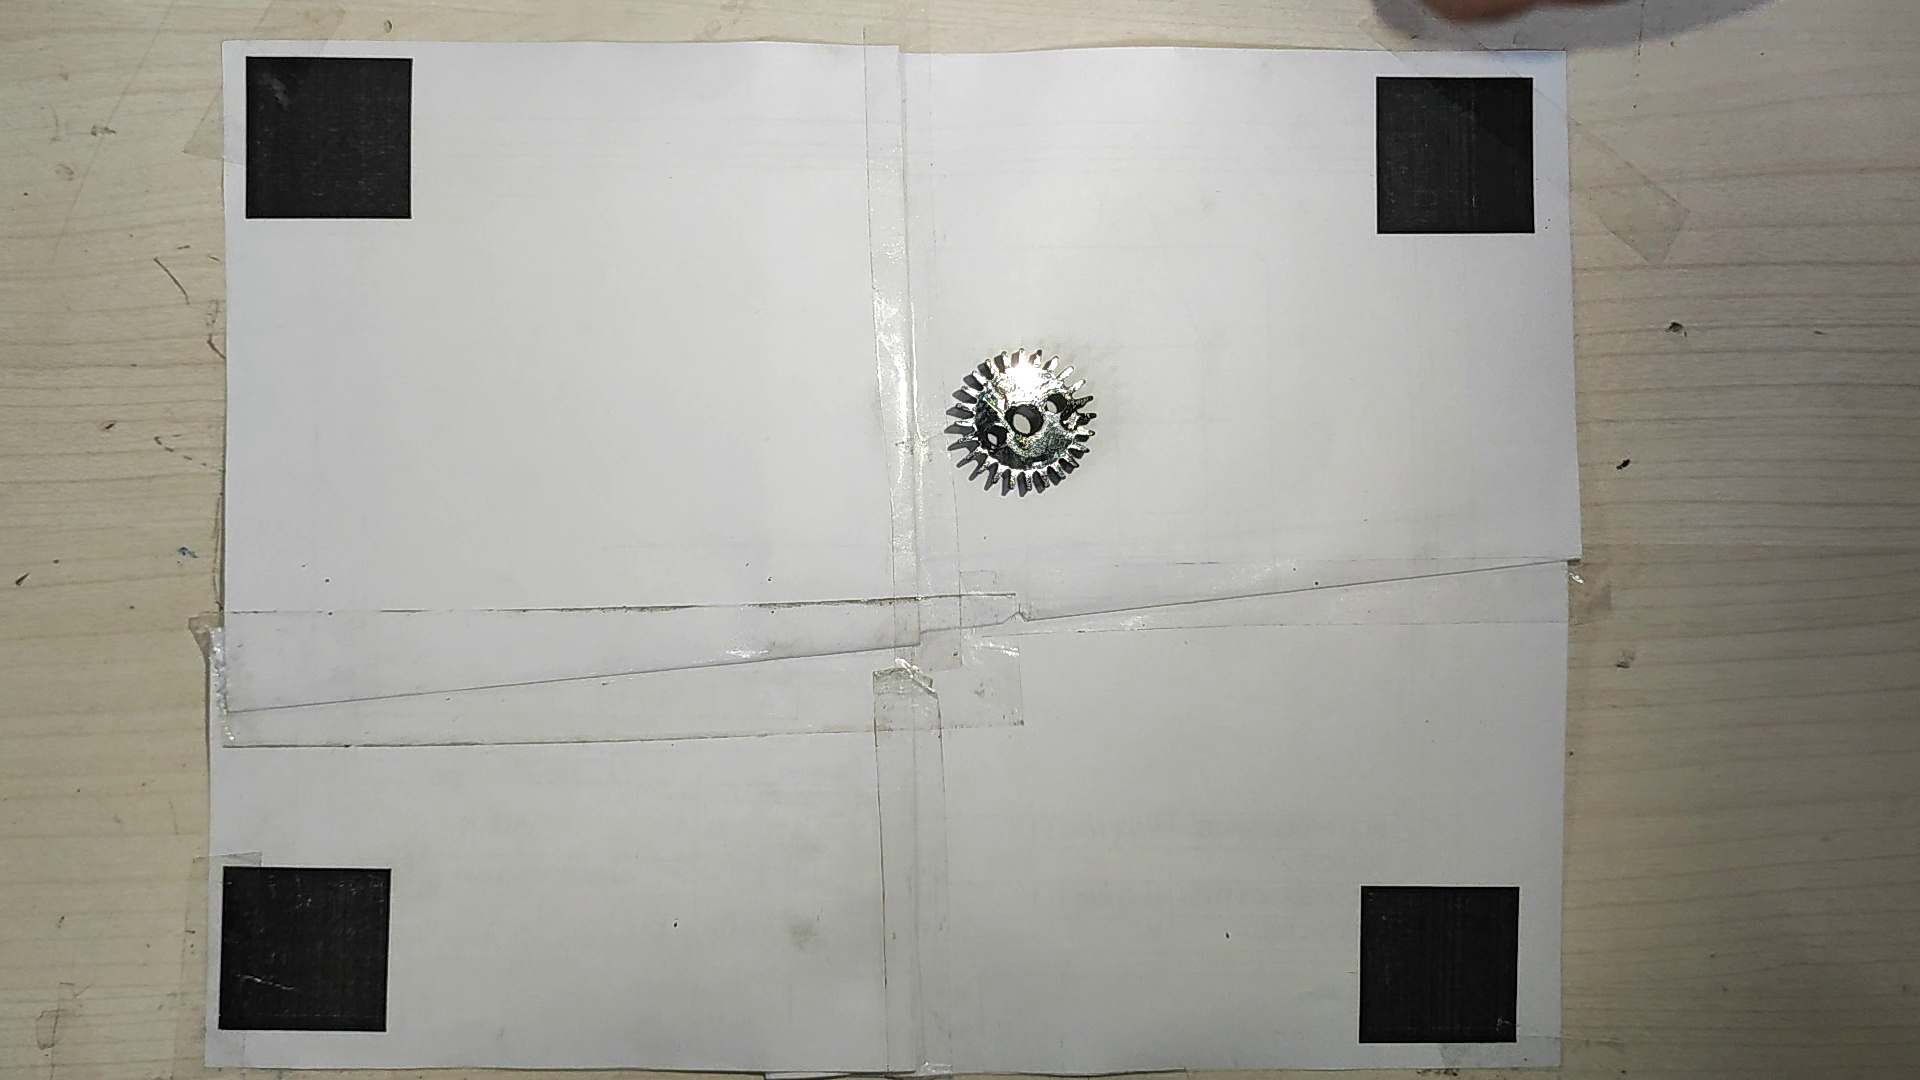Gear: (940, 344, 1099, 500)
